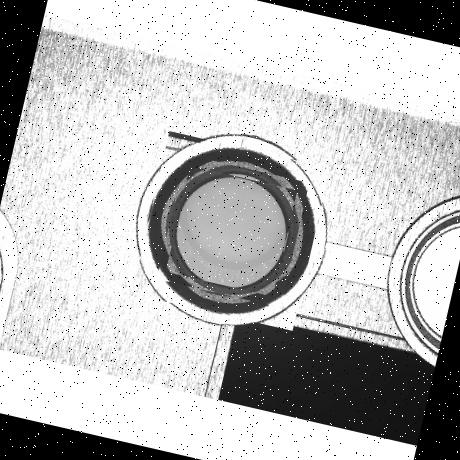Hole: (130, 130, 330, 330)
Hole2: (145, 146, 315, 314)
Hole3: (156, 154, 308, 308)
Hole4: (165, 164, 297, 296)
